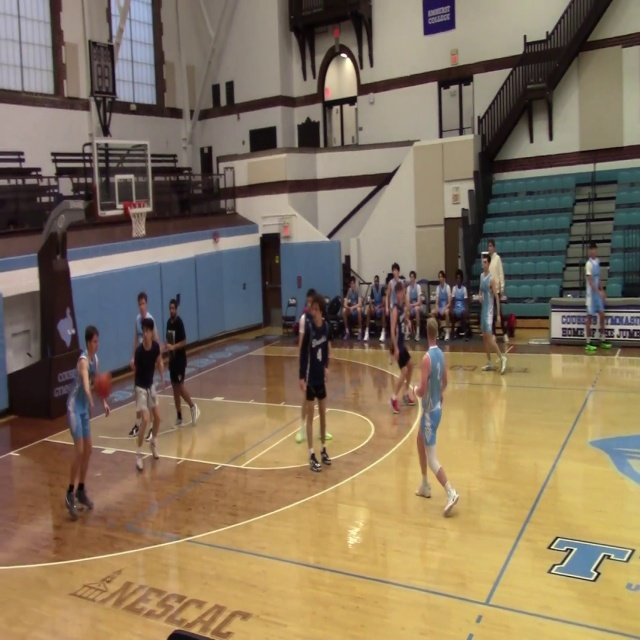Basketball: (93, 372, 112, 398), (325, 432, 332, 440)
